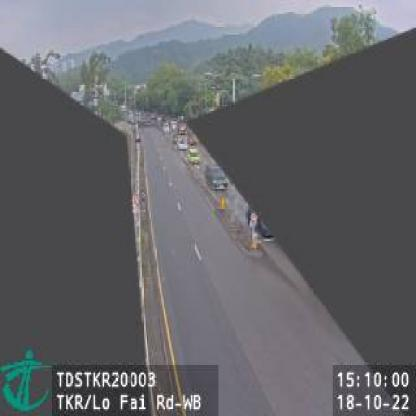Car: (205, 164, 230, 194), (186, 147, 202, 165), (177, 134, 189, 150)
